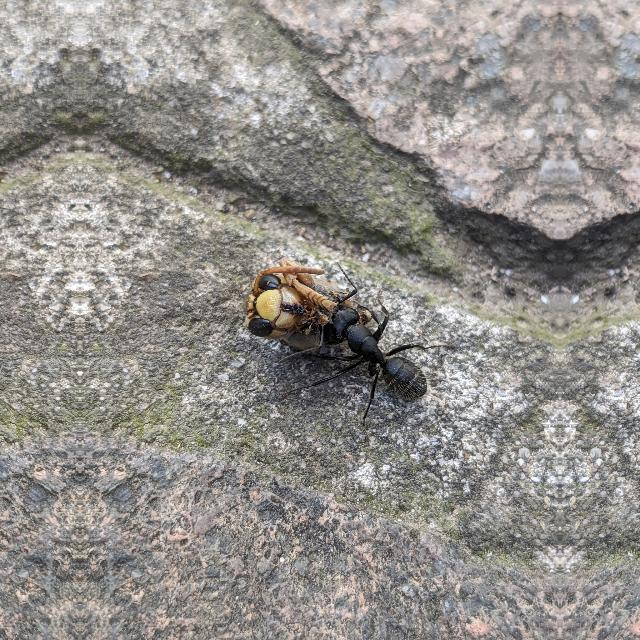Camponotus: (310, 272, 442, 416)
